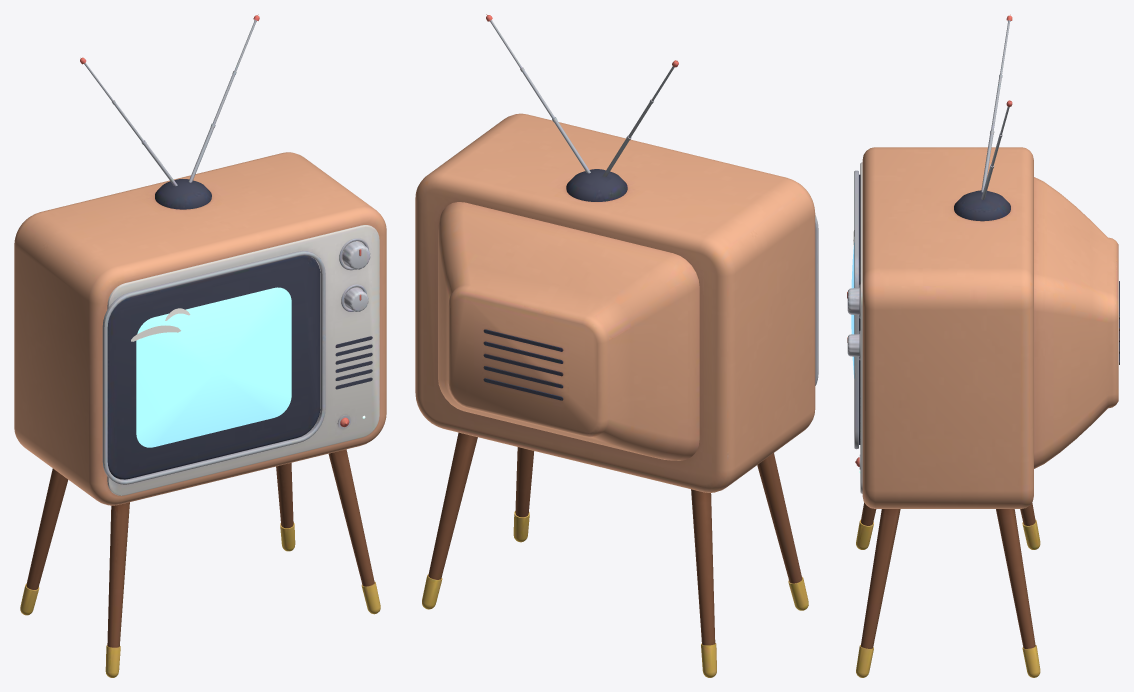
The model's file is tele_retro.glb.
3 renders of one model, left to right at view 1: azimuth 30°, elevation 25°; view 2: azimuth 150°, elevation 25°; view 3: azimuth 270°, elevation 25°, orthographic. The views are drawn at different scales.
Visible parts, largest first — view 1: retro-tv_body; view 2: retro-tv_body; view 3: retro-tv_body.
Boxes of the visible parts, bbox=[...] form: retro-tv_body: bbox=[14, 14, 386, 677]; retro-tv_body: bbox=[415, 14, 818, 677]; retro-tv_body: bbox=[847, 14, 1119, 677].
Size of the model in its own units: 0.6 by 1.07 by 0.478.
Materials: 4 (1 with a texture image).
